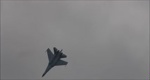maybay_muctieu: (42, 48, 67, 78)
